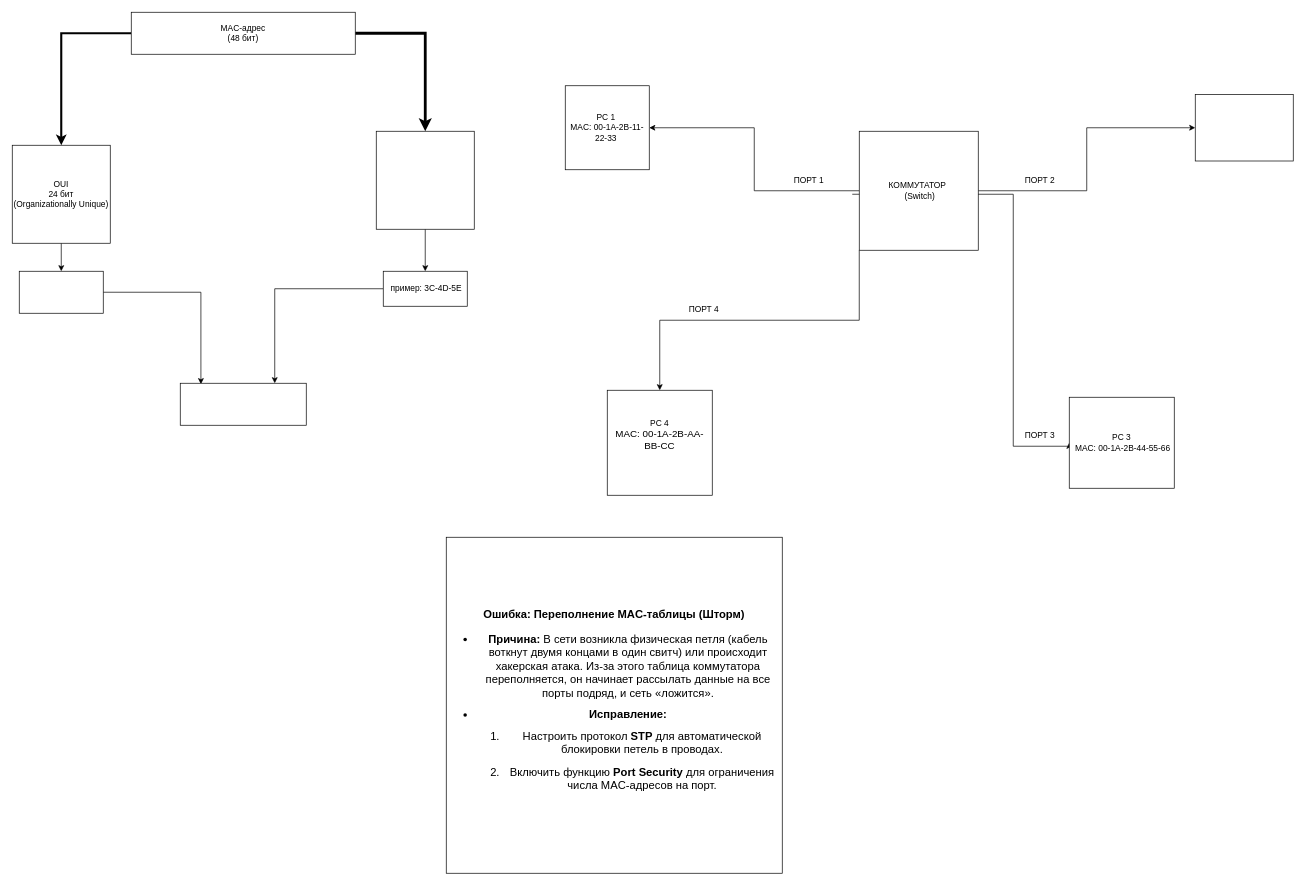
This 1306x886 diagram has some shape labels left out. The box of each missing label's shape, as (x1, y1, x2, y2) in pixels:
NIC 24 Network Interface Controller): (376, 131, 474, 229)
PC 2 MAC: 00-1A-2B-44-55-66: (1195, 94, 1293, 161)
Пример MAC-адреса: 00-1A-2B-3C-4D-5E: (180, 383, 306, 425)
Пример: 00 : 1A : 2B: (19, 271, 103, 313)
